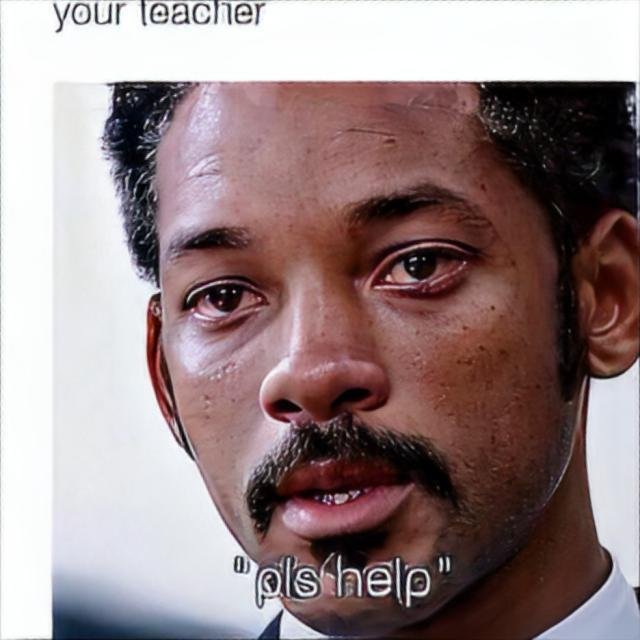sad: (157, 87, 573, 640)
